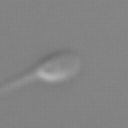normal: (1, 68, 37, 97)
